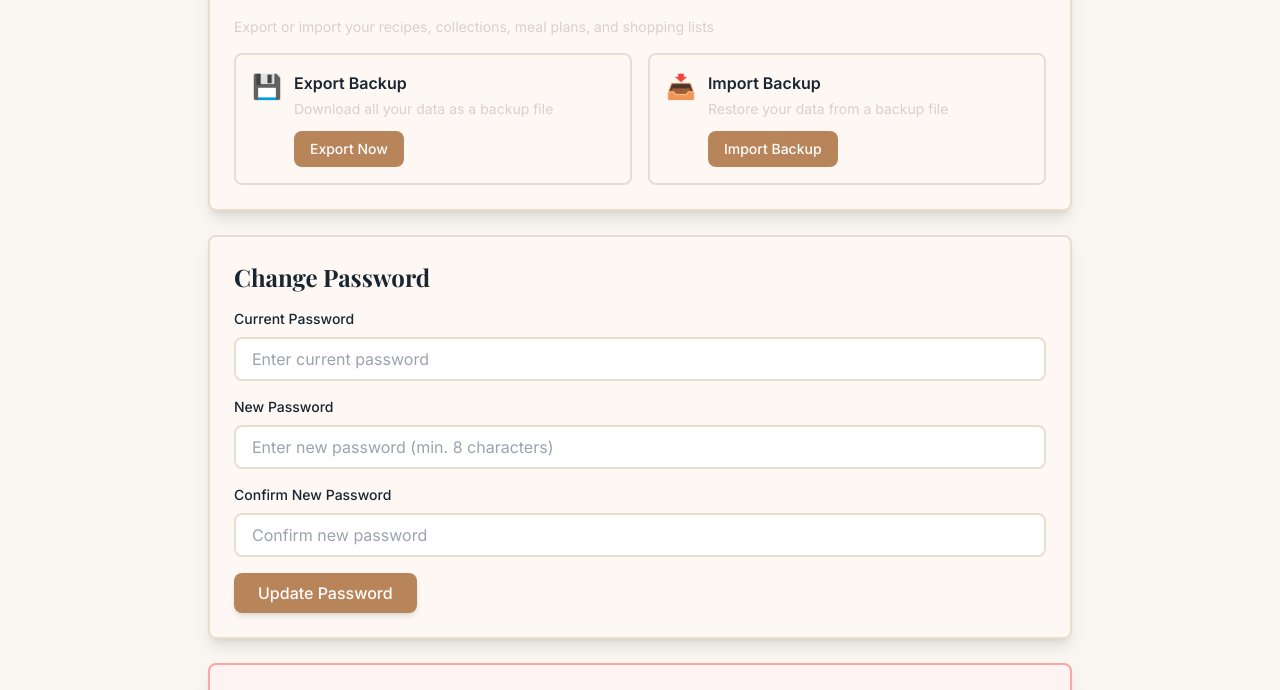
Scenario: AccountSettingsPage › validates password length
The width and height of the screenshot is (1280, 690).
(page scrolled)
Type "oldpass123" into the password field labelled "Current Password" at (640, 359), box x1=234 y1=337 x2=1046 y2=381
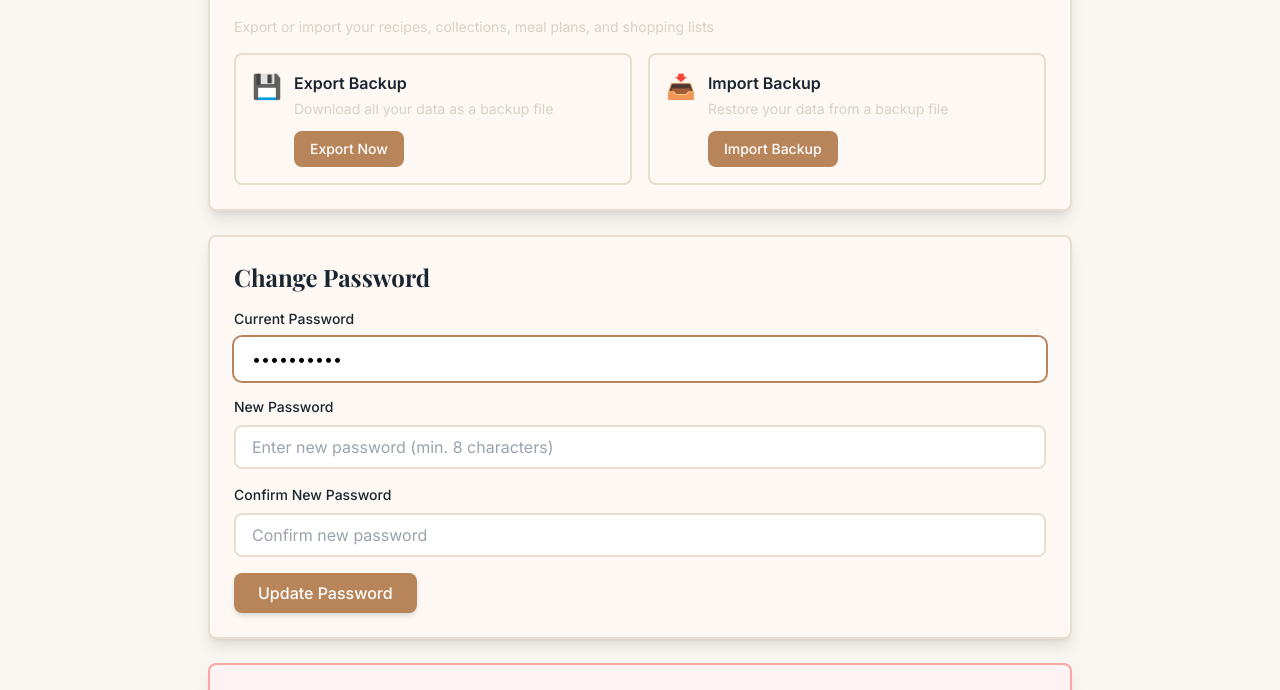
Type "short" into the password field labelled "New Password" at (640, 447), box x1=234 y1=425 x2=1046 y2=469
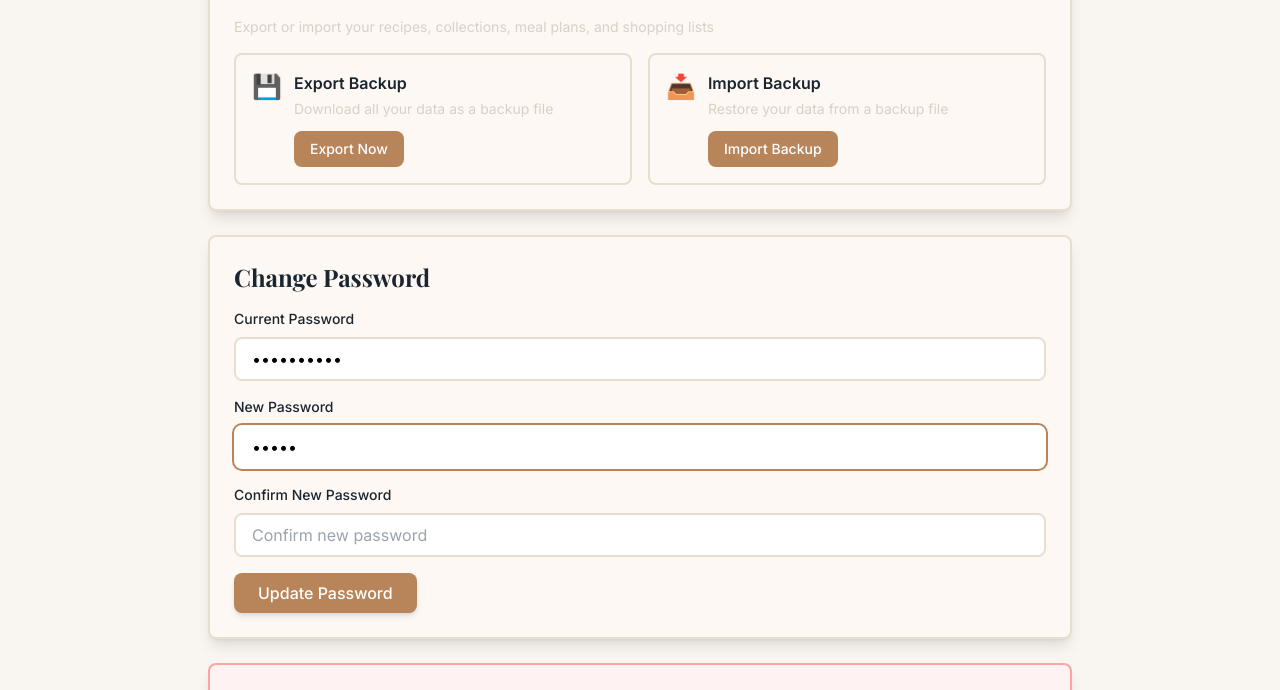
Type "short" into the password field labelled "Confirm New Password" at (640, 535), box x1=234 y1=513 x2=1046 y2=557
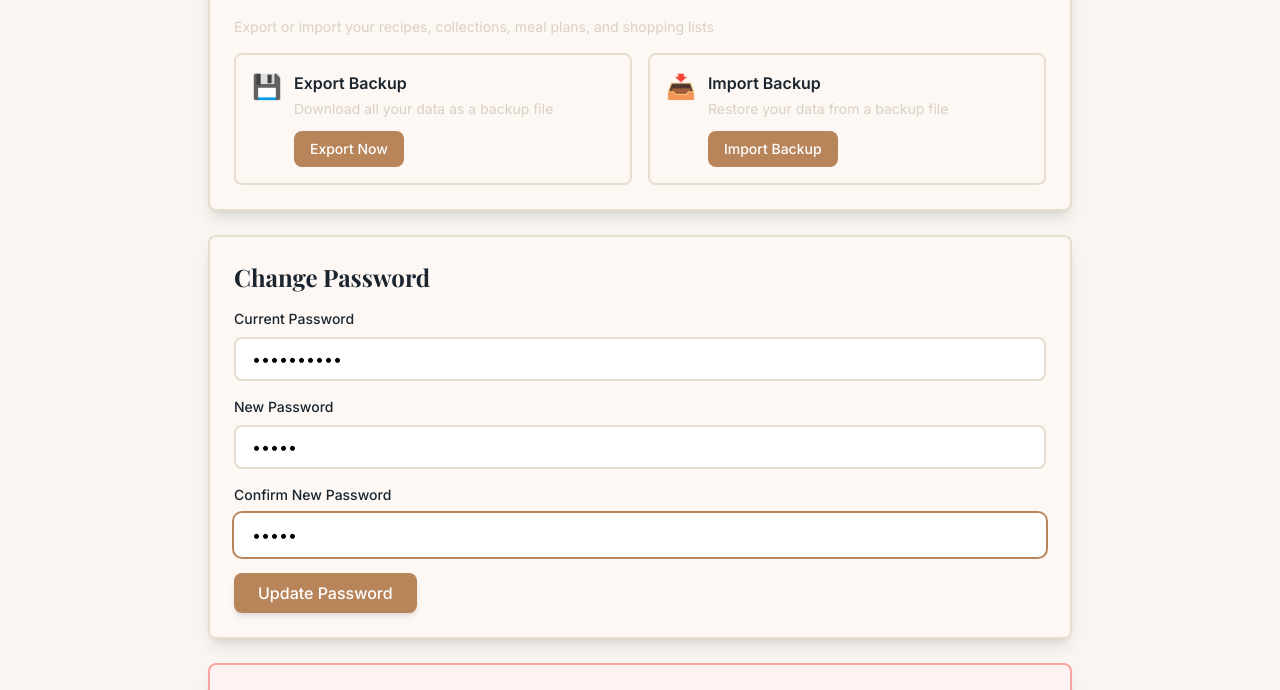
Click the button "Update Password" at (325, 593), box x1=234 y1=573 x2=417 y2=613
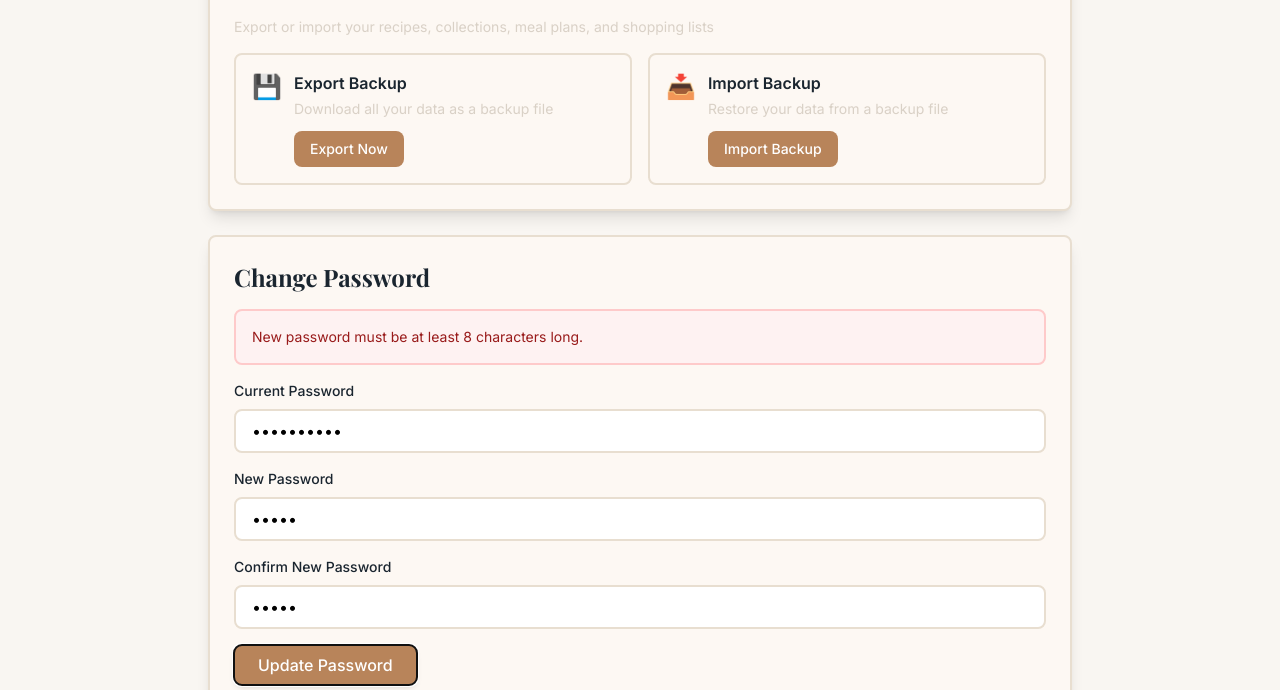
Now the text "New password must be at least 8 characters long." is shown, box x1=252 y1=328 x2=583 y2=345
